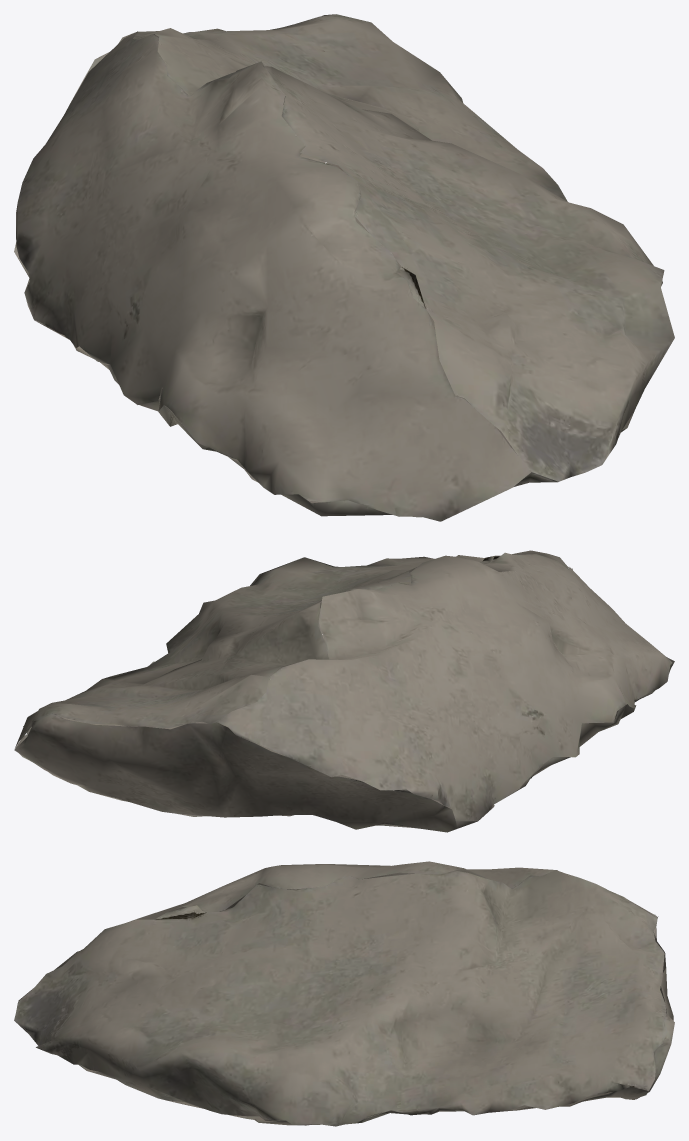
The model's file is moonrock_c.glb.
3 views of the same model, one above another, from view 1: azimuth 30°, elevation 25°; view 2: azimuth 150°, elevation 25°; view 3: azimuth 270°, elevation 25° (orthographic). The views are drawn at different scales.
Parts seen in each view (by area): view 1: moonrock_c_v0_lod0; view 2: moonrock_c_v0_lod0; view 3: moonrock_c_v0_lod0.
Part boxes in pixels (x1,y1,x2,y2): moonrock_c_v0_lod0: (14, 14, 674, 521); moonrock_c_v0_lod0: (14, 550, 674, 832); moonrock_c_v0_lod0: (14, 861, 674, 1126).
Size of what is drawn, in the model's own units: 0.1198 by 0.0541 by 0.1737.
Materials: 1 (1 with a texture image).
